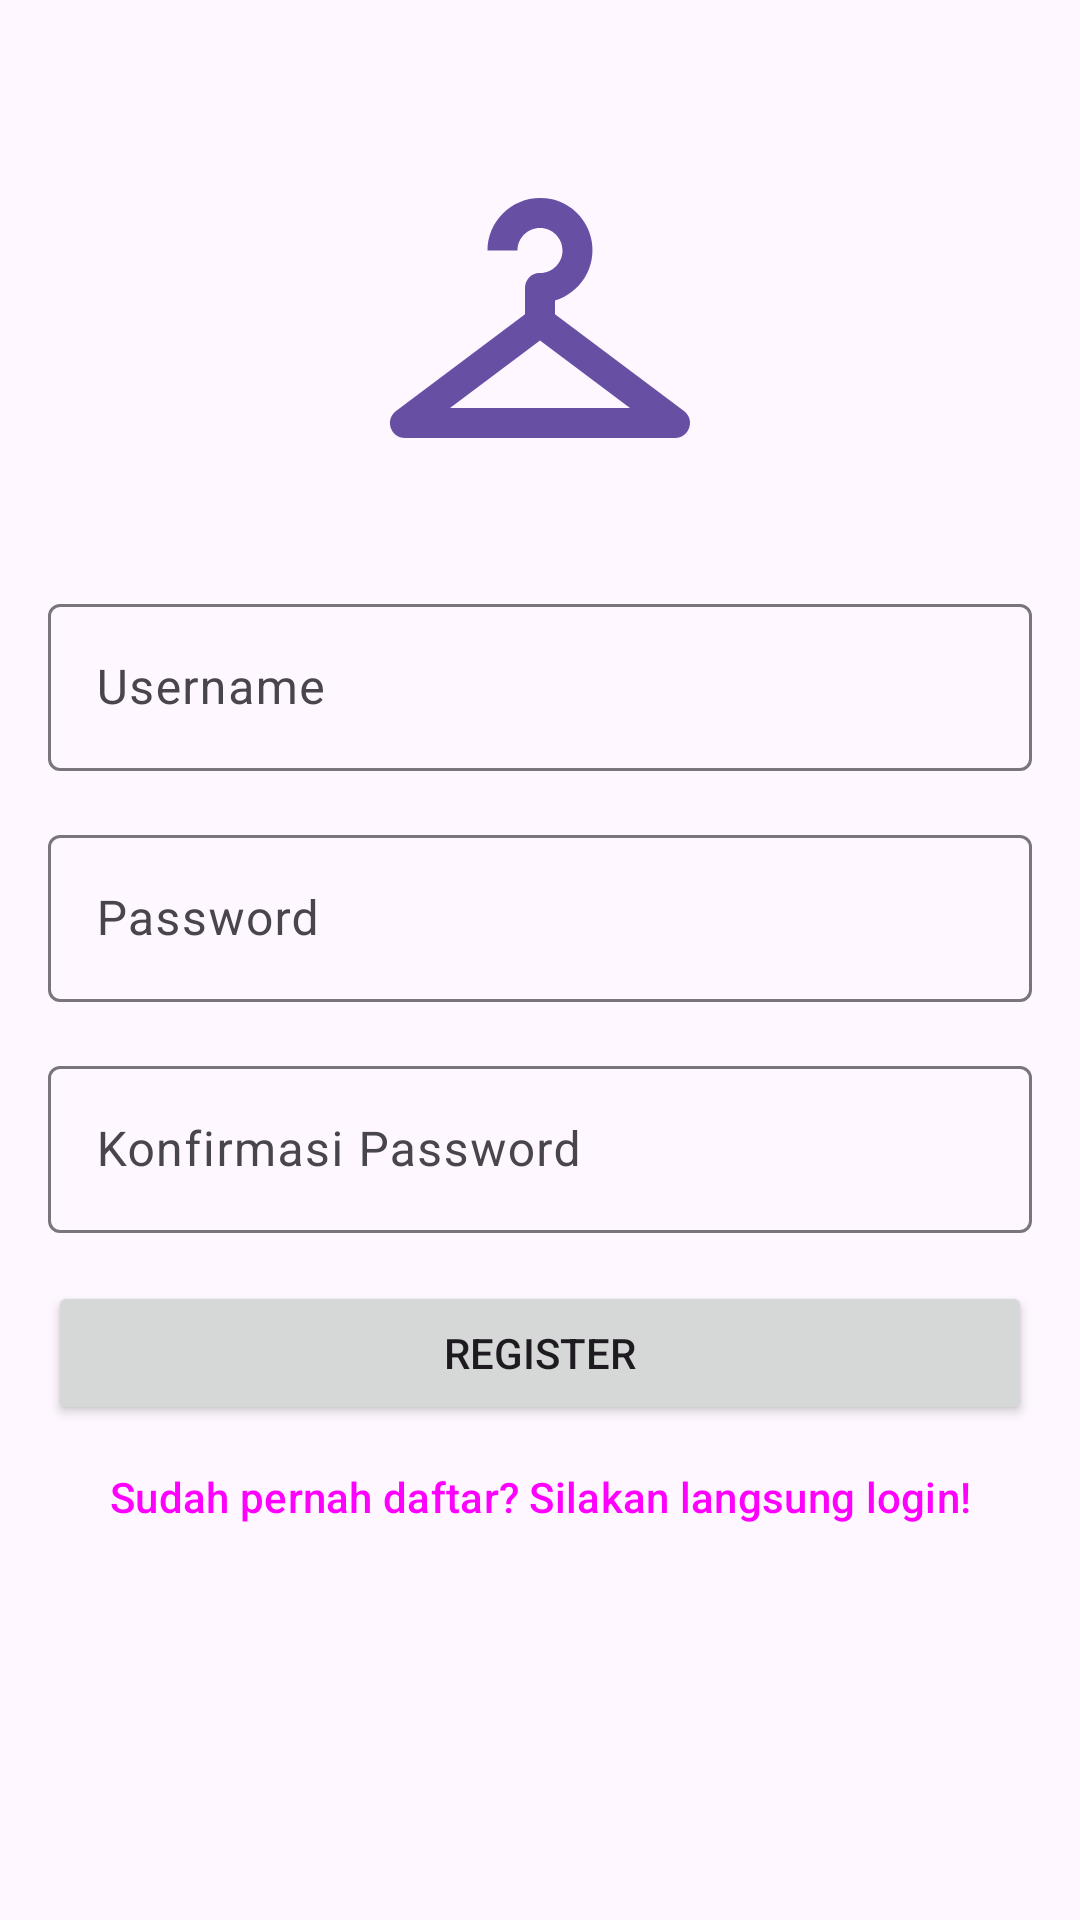

Icon bounding boxes for this 1080px×1920px phone screenshot, format (x1=x1, y1=y1, x2=x2, y2=y2):
ilaundry: (x1=390, y1=198, x2=690, y2=438)
